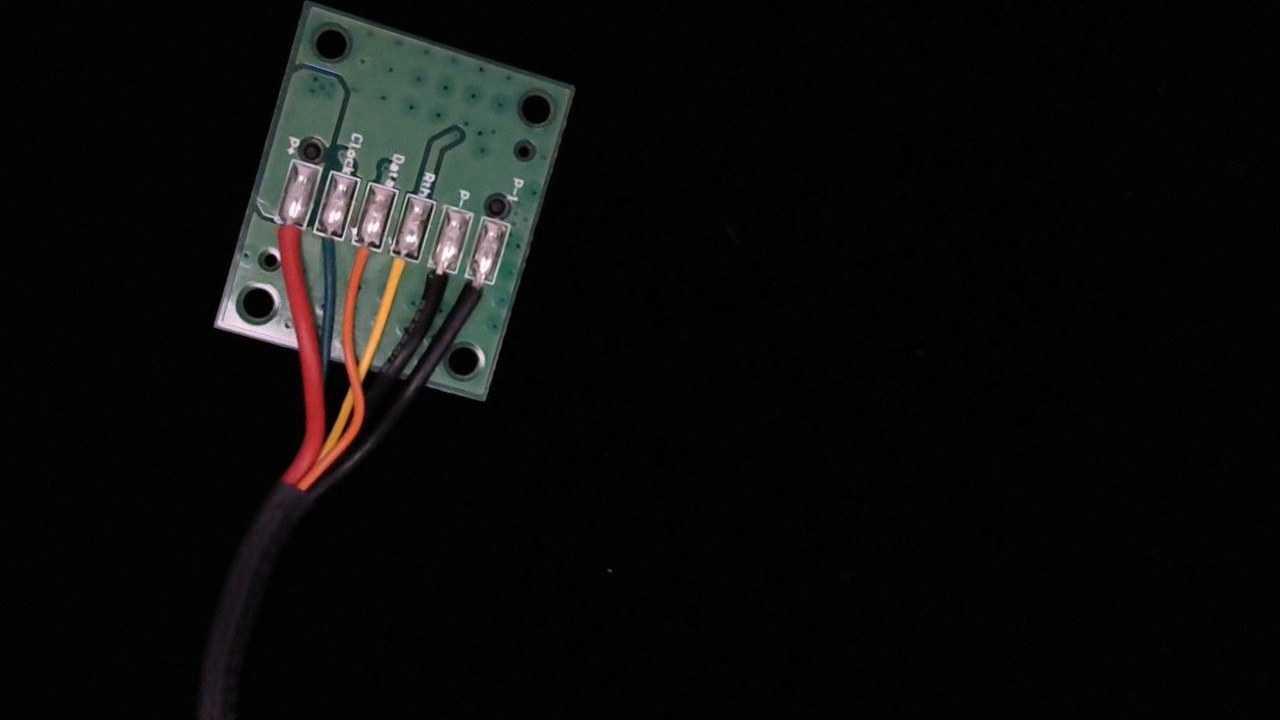Black: (410, 245, 464, 325)
Black1: (452, 257, 504, 331)
Green: (298, 211, 351, 288)
Orange: (336, 223, 388, 301)
Red: (259, 199, 312, 276)
Yellow: (372, 234, 427, 315)
